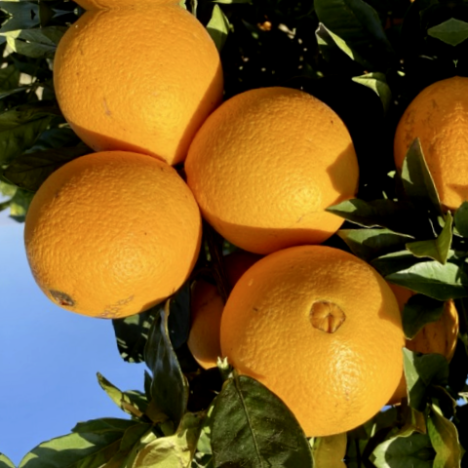orange: (193, 237, 419, 453), (27, 4, 256, 188), (174, 83, 380, 274), (0, 148, 208, 323)
